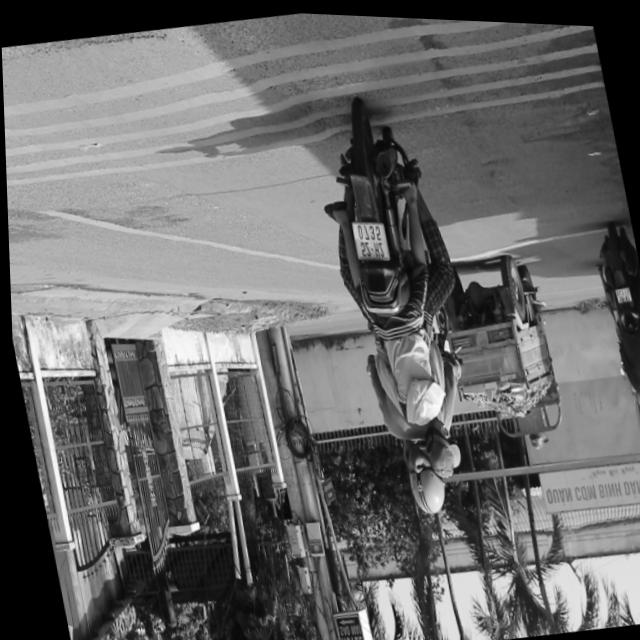helmet: (397, 440, 446, 515), (638, 389, 640, 420)
licenseplate: (301, 97, 496, 527), (585, 214, 640, 425)
motorcyclist: (415, 410, 458, 477)
nohelmet: (349, 216, 386, 260), (612, 281, 628, 299)
